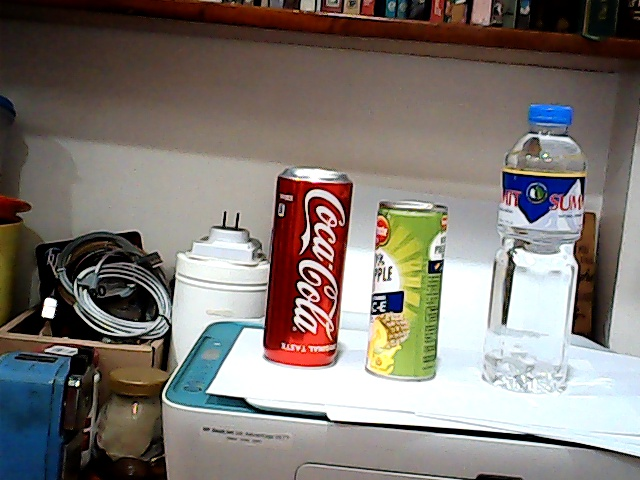Cola: (263, 164, 359, 374)
Pine Juice: (359, 193, 457, 392)
Summit Water: (486, 93, 601, 385)
